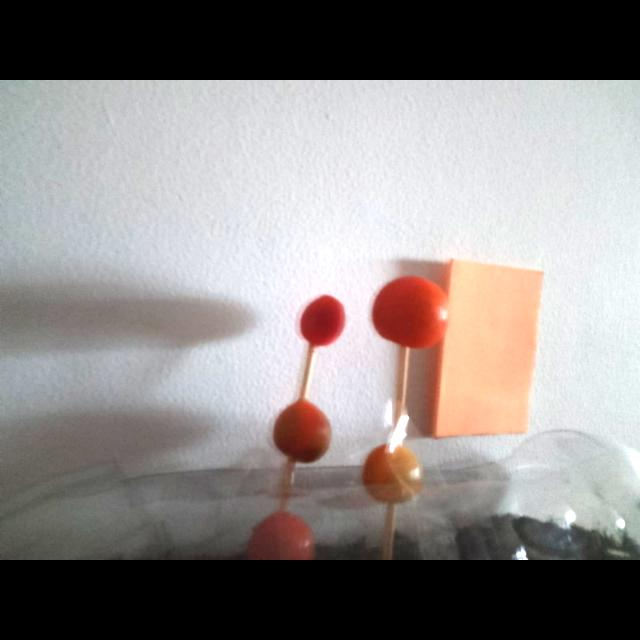card: (427, 260, 542, 437)
fruit_maturation: (362, 445, 422, 503)
fully_grown: (372, 276, 448, 349), (273, 398, 331, 463), (300, 295, 345, 347)
